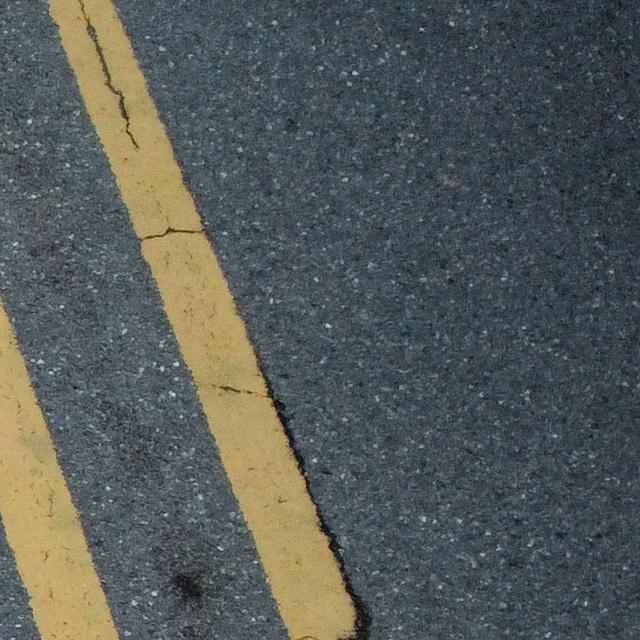LongitudinalCrack: (253, 347, 375, 640), (79, 1, 139, 147)
